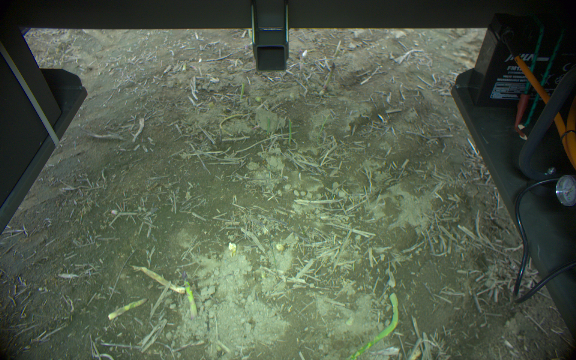aspa: (344, 291, 401, 360), (107, 296, 148, 319), (179, 269, 198, 318)
